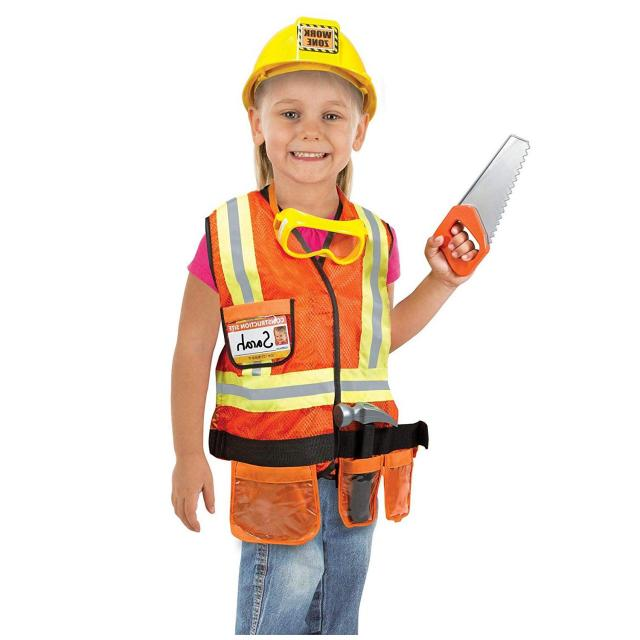Reflective-Jacket: (203, 197, 418, 522)
Safety-Helmet: (238, 14, 379, 112)
